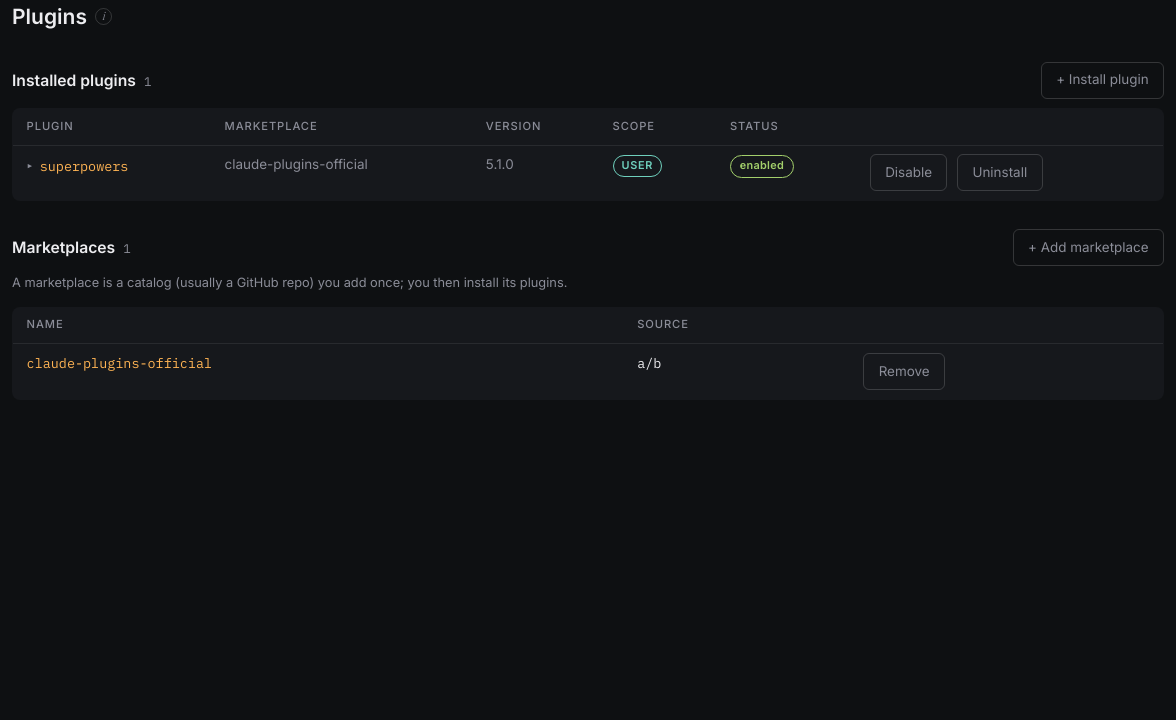
Test case: Plugins view › installs a searched plugin directly from its suggestion row
Expected: the element "Installed plugins" is shown, 12,62 -> 1164,201
Click the button "+ Install plugin" at (1102, 80), box 1041,62 -> 1164,98
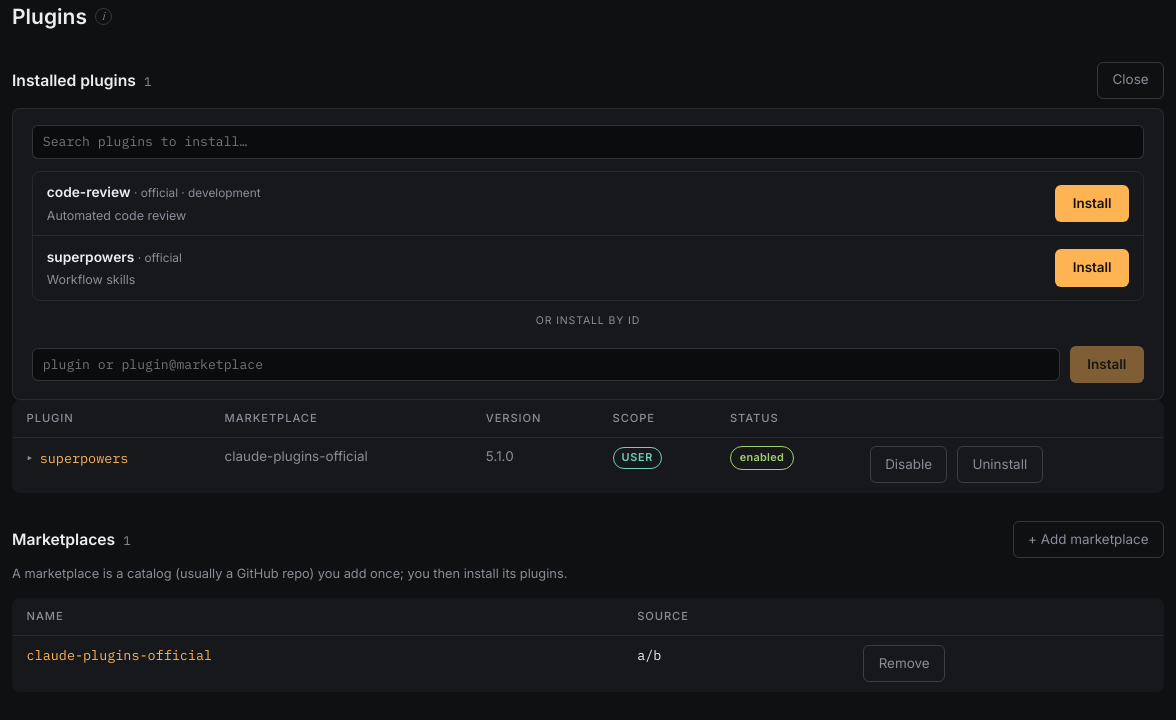
Expected: the text "code-review" is shown, 47,184 -> 130,200
Type "superpowers" into the field with placeholder "Search plugins to install…" at (588, 142), box 32,125 -> 1144,158
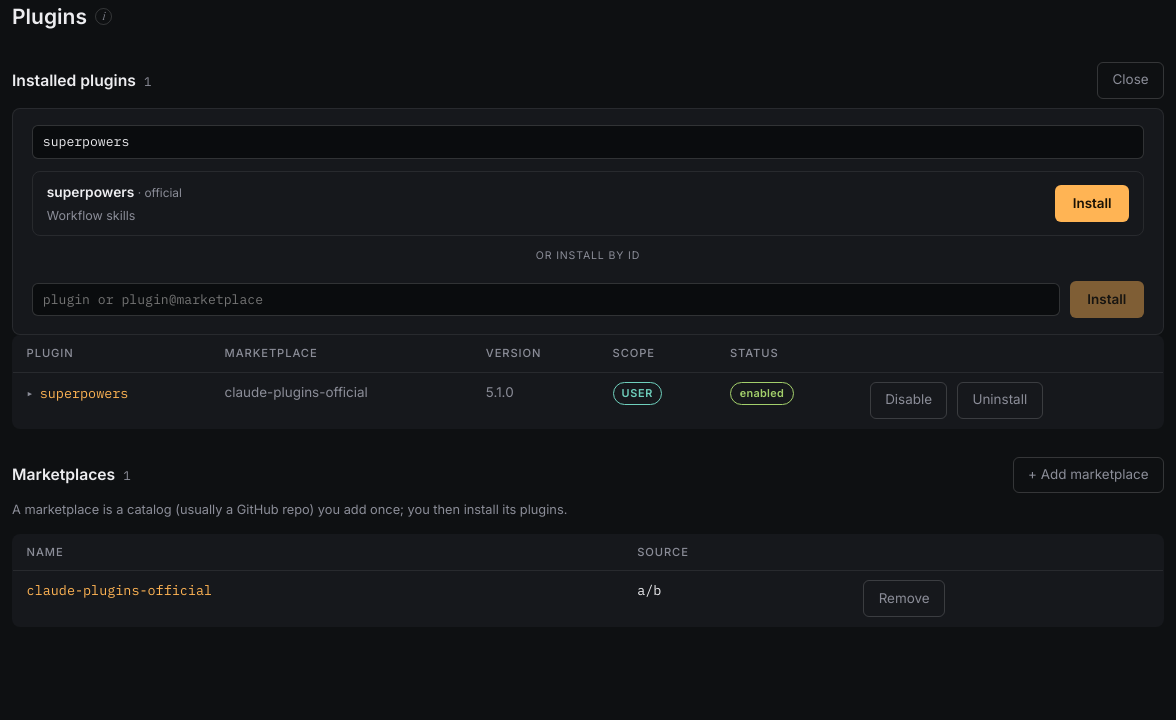
Expected: the text "code-review" is gone
// its own Install button installs it directly — no Use step
Click the button "Install" in the row of "Workflow skills" at (1092, 203), box 1055,184 -> 1129,222
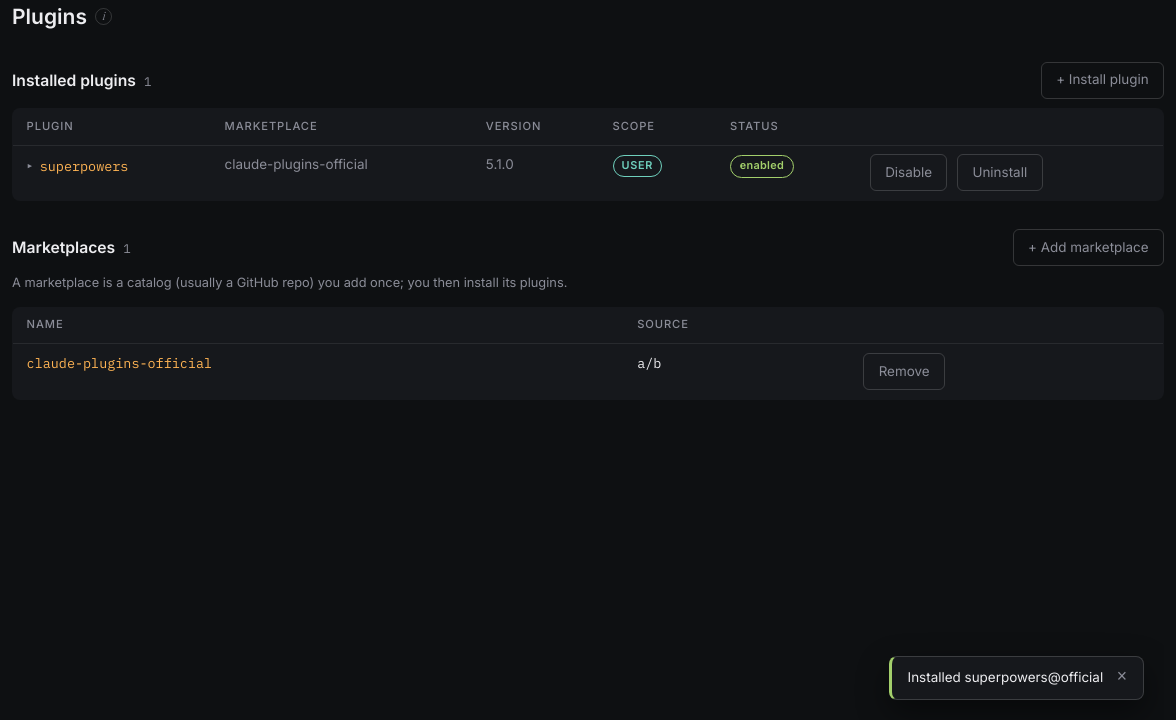
Expected: the text "Installed superpowers@official" is shown, 908,668 -> 1103,688
